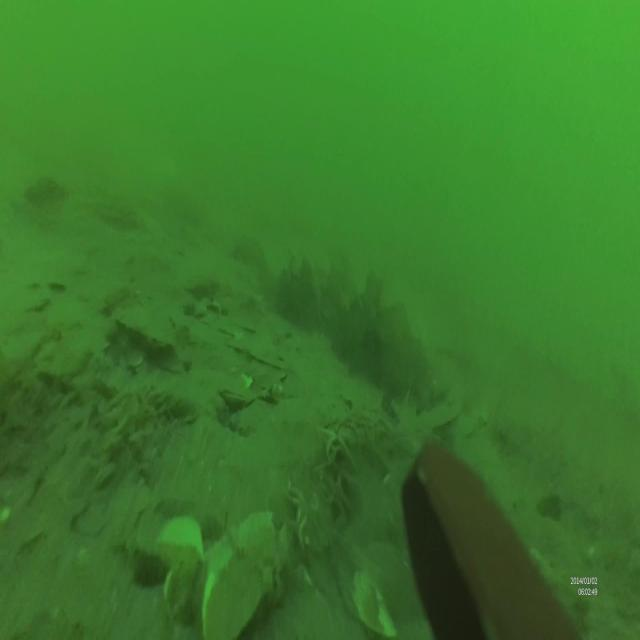scallop: (116, 308, 176, 366)
starfish: (319, 464, 356, 524), (318, 418, 354, 468)
